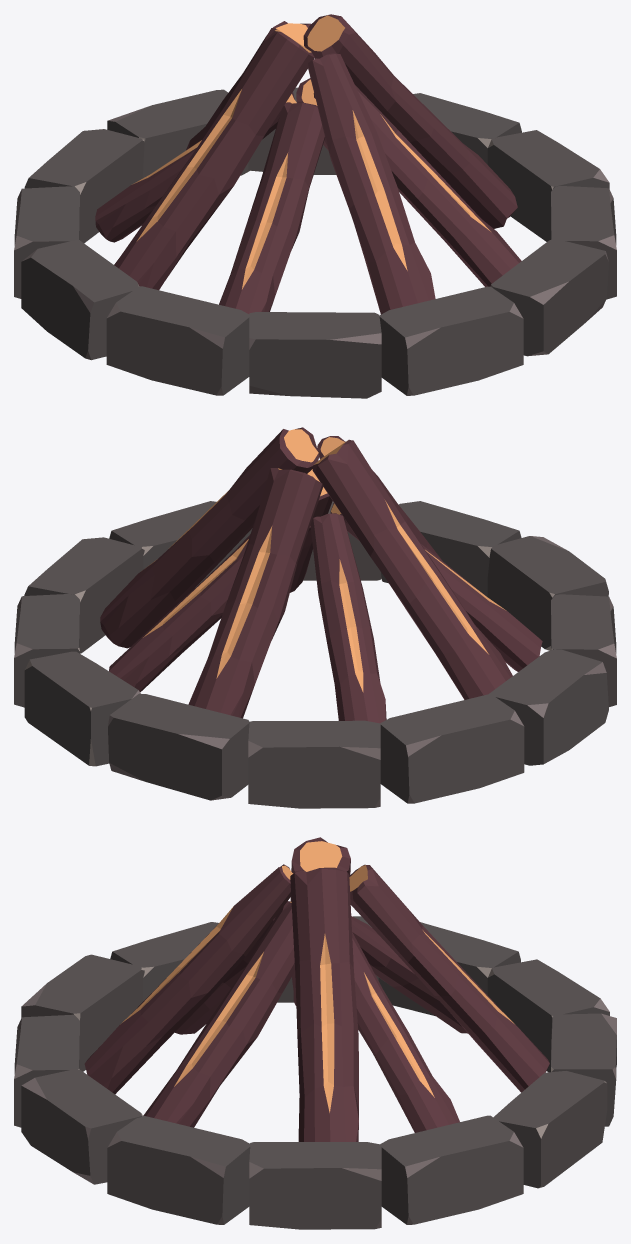
Rendered from Fogueira1.fbx.
3 renders of one model, top to bottom at view 1: azimuth 30°, elevation 25°; view 2: azimuth 150°, elevation 25°; view 3: azimuth 270°, elevation 25°, orthographic.
Visible parts, largest first — view 1: Cylinder.001; view 2: Cylinder.001; view 3: Cylinder.001.
Part boxes in pixels (x1=…): Cylinder.001: x1=14, y1=14, x2=616, y2=398; Cylinder.001: x1=14, y1=427, x2=616, y2=808; Cylinder.001: x1=14, y1=837, x2=616, y2=1229.
Size of the model in its own units: 152 by 68.86 by 152.
